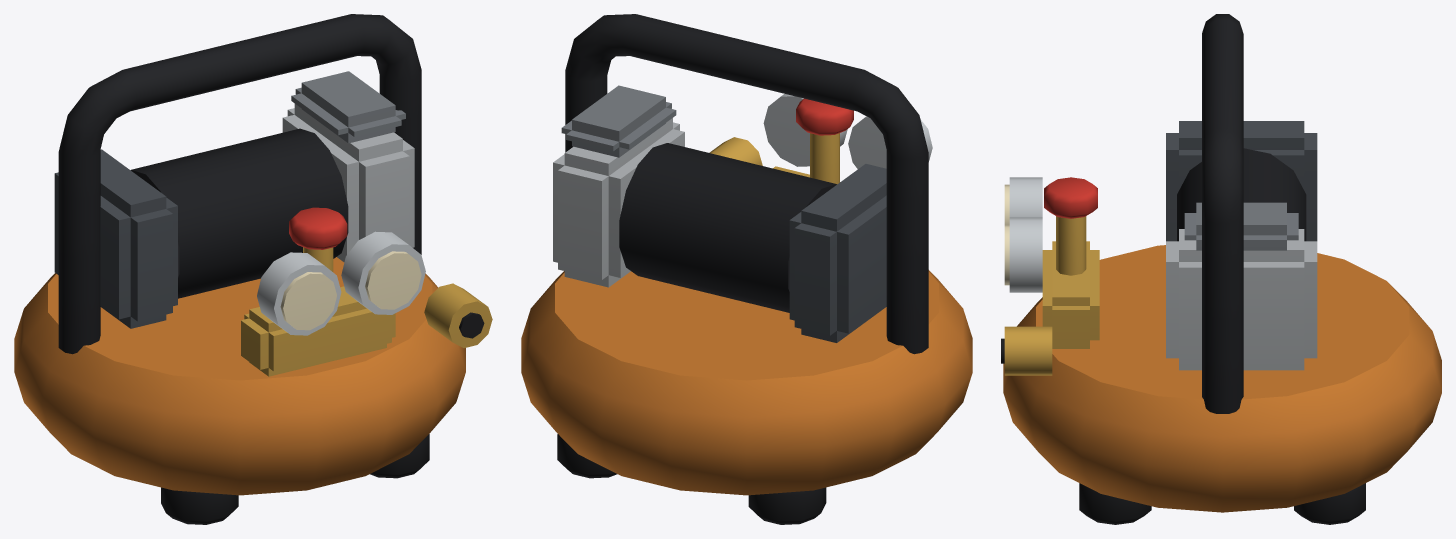
The model's file is SM_Compressor_Pancake_01.glb.
3 renders of one model, left to right at view 1: azimuth 30°, elevation 25°; view 2: azimuth 150°, elevation 25°; view 3: azimuth 270°, elevation 25°, orthographic. The views are drawn at different scales.
Parts seen in each view (by area): view 1: SM_Compressor_Pancake_01; view 2: SM_Compressor_Pancake_01; view 3: SM_Compressor_Pancake_01.
Part boxes in pixels (x1,y1,x2,y2): SM_Compressor_Pancake_01: (14, 14, 492, 524); SM_Compressor_Pancake_01: (521, 14, 972, 524); SM_Compressor_Pancake_01: (1001, 14, 1441, 524).
Size of the model in its own units: 0.47 by 0.4569 by 0.4654.
1 material, 1 textured.
